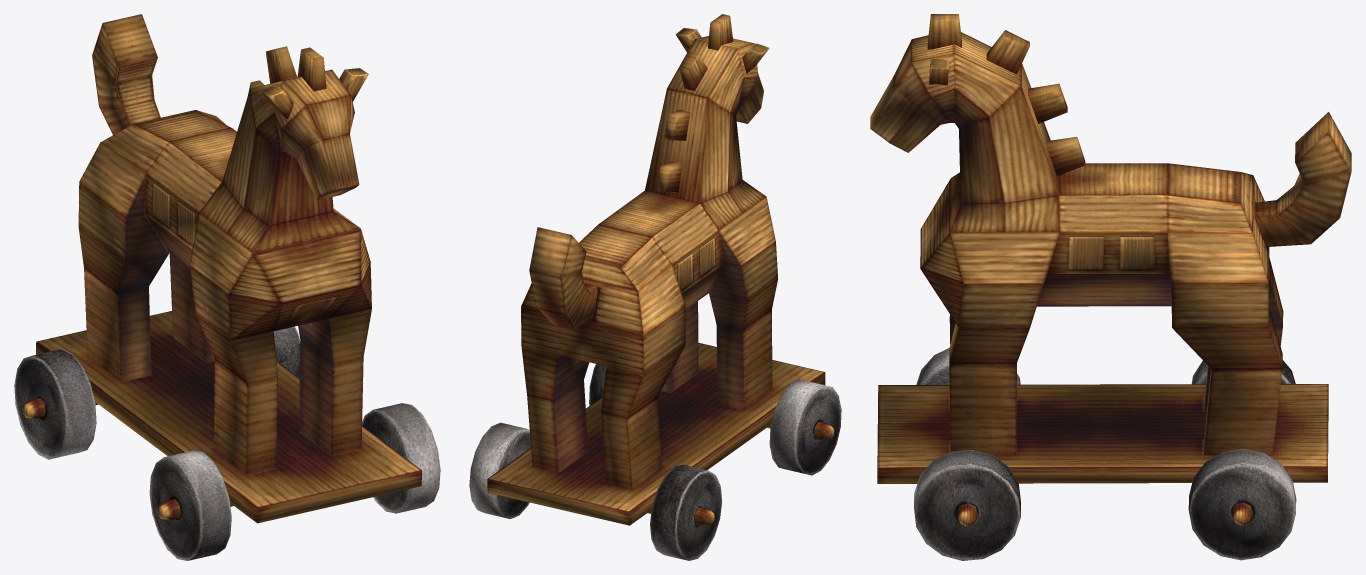
Rendered from Trojan Horse.fbx.
3 renders of one model, left to right at view 1: azimuth 30°, elevation 25°; view 2: azimuth 150°, elevation 25°; view 3: azimuth 270°, elevation 25°, orthographic. The views are drawn at different scales.
Visible parts, largest first — view 1: Body, Head, Right Front Wheel, Back Right Wheel, Left Front Wheel, Back Left Wheel; view 2: Body, Head, Back Right Wheel, Right Front Wheel, Back Left Wheel, Left Front Wheel; view 3: Body, Head, Back Left Wheel, Left Front Wheel, Right Front Wheel.
Boxes of the visible parts, x1=… form: Body: x1=78, y1=14, x2=371, y2=474; Head: x1=36, y1=46, x2=421, y2=523; Right Front Wheel: x1=149, y1=450, x2=231, y2=560; Back Right Wheel: x1=14, y1=349, x2=96, y2=459; Left Front Wheel: x1=362, y1=403, x2=440, y2=513; Back Left Wheel: x1=273, y1=326, x2=300, y2=378; Body: x1=521, y1=190, x2=777, y2=489; Head: x1=487, y1=14, x2=825, y2=525; Back Right Wheel: x1=650, y1=464, x2=722, y2=560; Right Front Wheel: x1=769, y1=379, x2=841, y2=475; Back Left Wheel: x1=469, y1=422, x2=530, y2=518; Left Front Wheel: x1=589, y1=364, x2=606, y2=405; Body: x1=920, y1=112, x2=1351, y2=455; Head: x1=870, y1=14, x2=1328, y2=483; Back Left Wheel: x1=1188, y1=449, x2=1296, y2=560; Left Front Wheel: x1=914, y1=449, x2=1020, y2=560; Right Front Wheel: x1=916, y1=348, x2=1020, y2=384.
Size of the model in its own units: 916 by 1549 by 1381.
2 materials, 2 textured.
